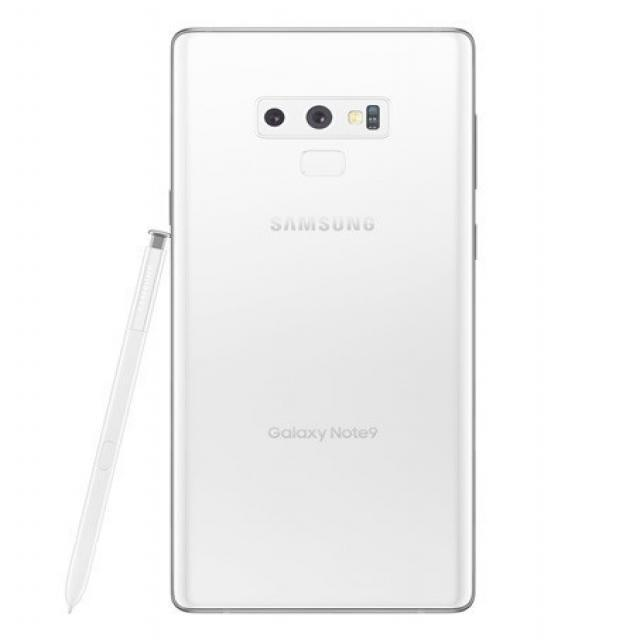phone: (173, 29, 477, 616)
